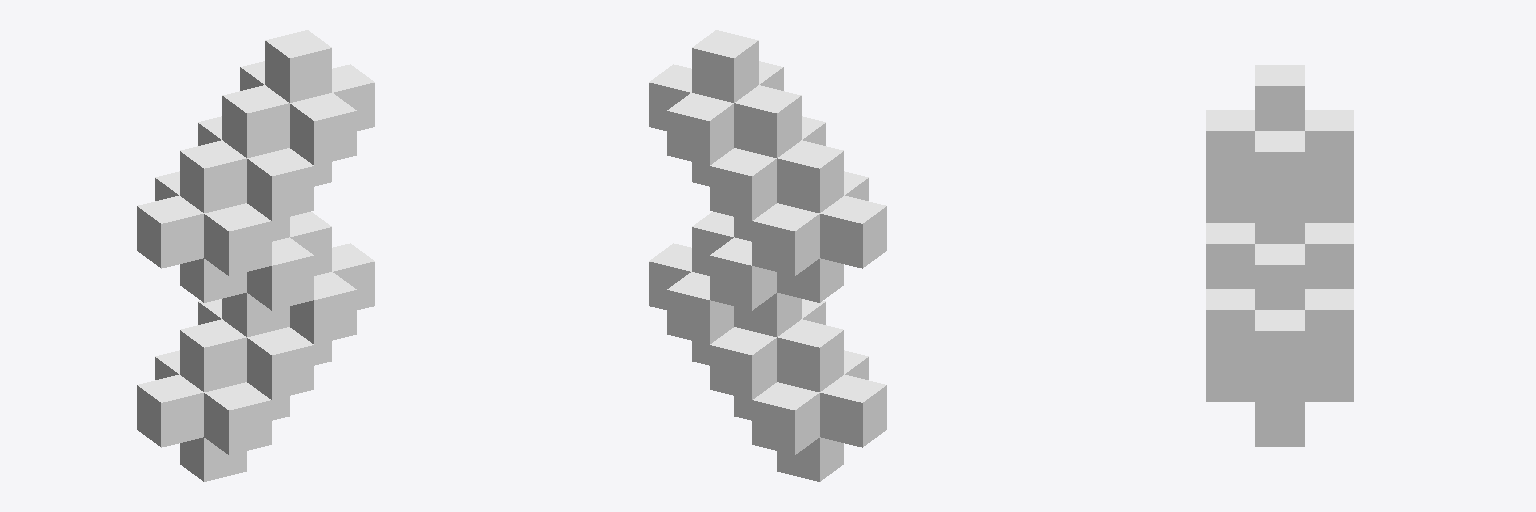
Rendered from enemy_bullet.obj.
3 renders of one model, left to right at view 1: azimuth 30°, elevation 25°; view 2: azimuth 150°, elevation 25°; view 3: azimuth 270°, elevation 25°, orthographic.
Visible parts, largest first — view 1: enemy_bullet; view 2: enemy_bullet; view 3: enemy_bullet.
Boxes of the visible parts, x1,y1,x2,y2 form: enemy_bullet: [137, 30, 374, 481]; enemy_bullet: [649, 30, 886, 481]; enemy_bullet: [1206, 65, 1353, 446].
Size of the model in its own units: 5 by 9 by 3.